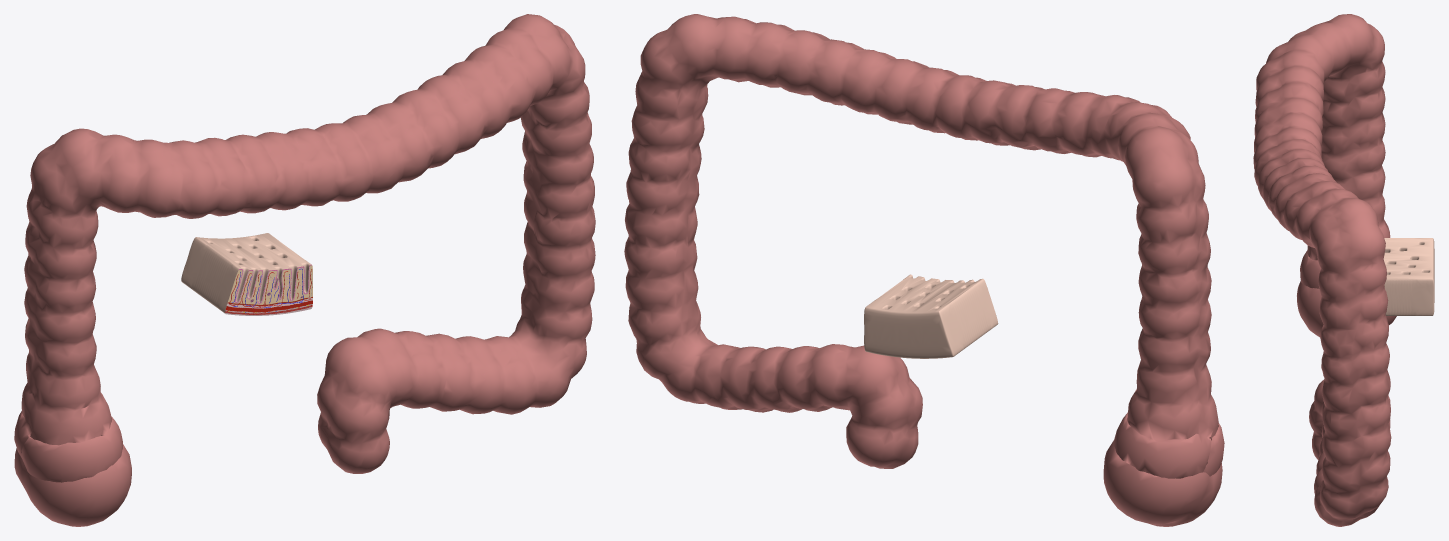
File: colon.glb
3 views of the same model, side by side, from view 1: azimuth 30°, elevation 25°; view 2: azimuth 150°, elevation 25°; view 3: azimuth 270°, elevation 25° (orthographic). The views are drawn at different scales.
Visible parts, largest first — view 1: Volume_MesherShape, Colon_SubsectionShape_14_0, CubeShape_11_0; view 2: Volume_MesherShape, Colon_SubsectionShape_14_0; view 3: Volume_MesherShape, Colon_SubsectionShape_14_0.
Part boxes in pixels (x1,y1,x2,y2): Volume_MesherShape: (14,14,595,526); Colon_SubsectionShape_14_0: (181,233,311,315); CubeShape_11_0: (225,264,312,315); Volume_MesherShape: (624,14,1224,526); Colon_SubsectionShape_14_0: (864,274,998,358); Volume_MesherShape: (1253,14,1396,526); Colon_SubsectionShape_14_0: (1383,238,1434,315).
Bounding box in the file's own units: 802 × 545 × 262.
5 materials, 4 textured.
